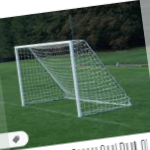goals: (12, 38, 133, 117)
